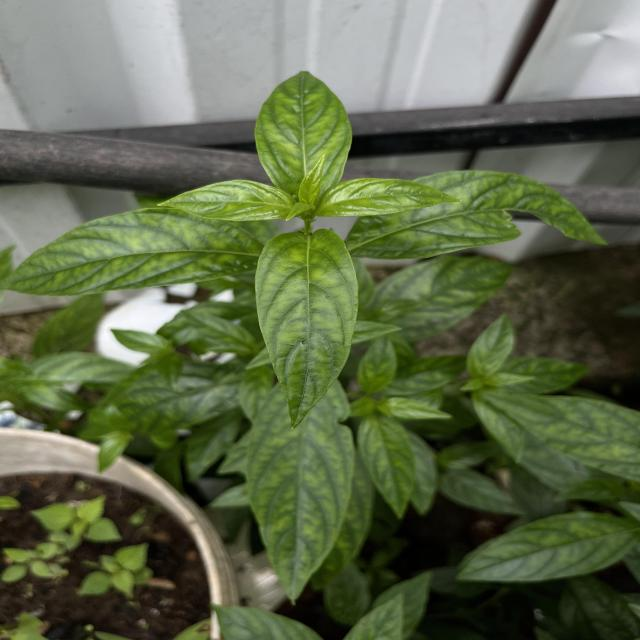Andrographis paniculata: (245, 392, 359, 604), (355, 168, 609, 263), (1, 205, 260, 298), (252, 226, 364, 431), (452, 508, 632, 584), (252, 68, 354, 192), (378, 252, 512, 330), (117, 366, 250, 432), (318, 176, 463, 220), (154, 178, 292, 224), (358, 417, 417, 517), (468, 312, 514, 374)
